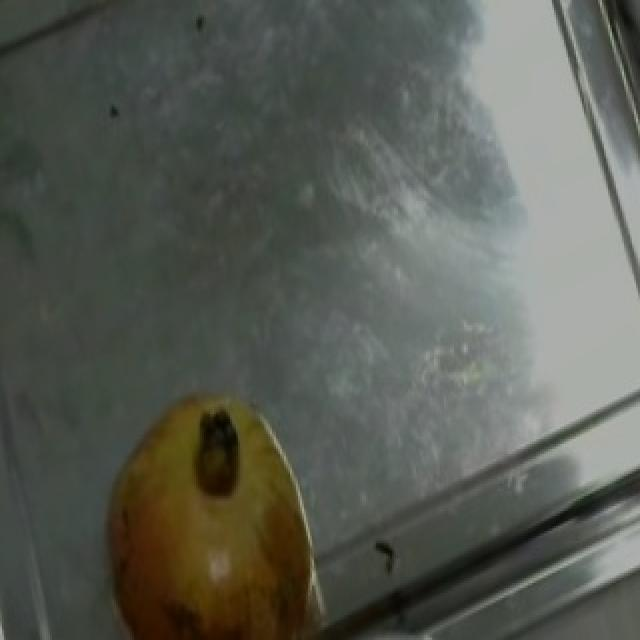fruit: (76, 357, 348, 630)
